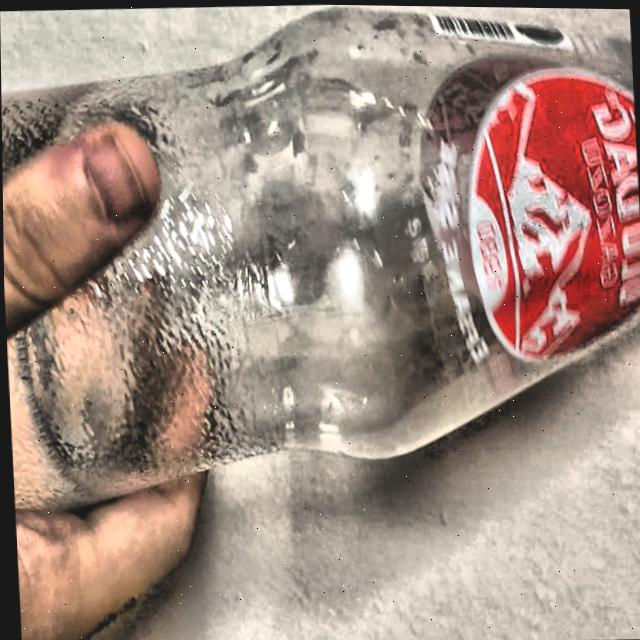plastic: (1, 4, 640, 506)
